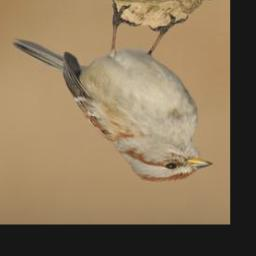Sparrow: (10, 0, 216, 184)
